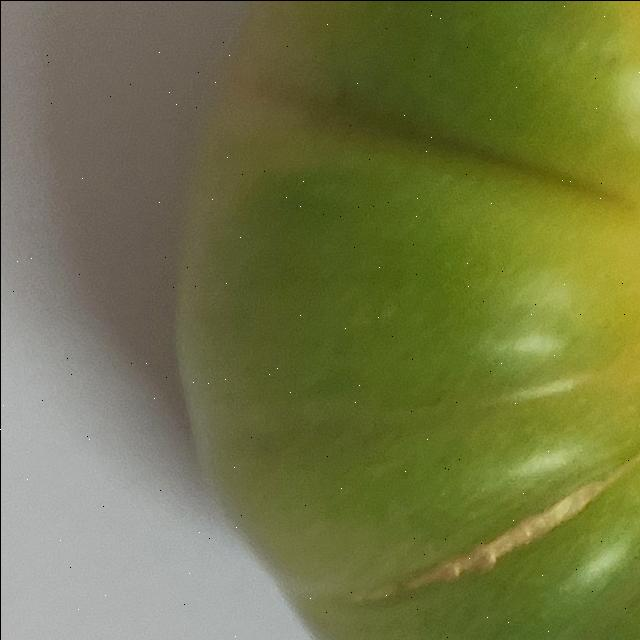tomato: (82, 0, 640, 640)
